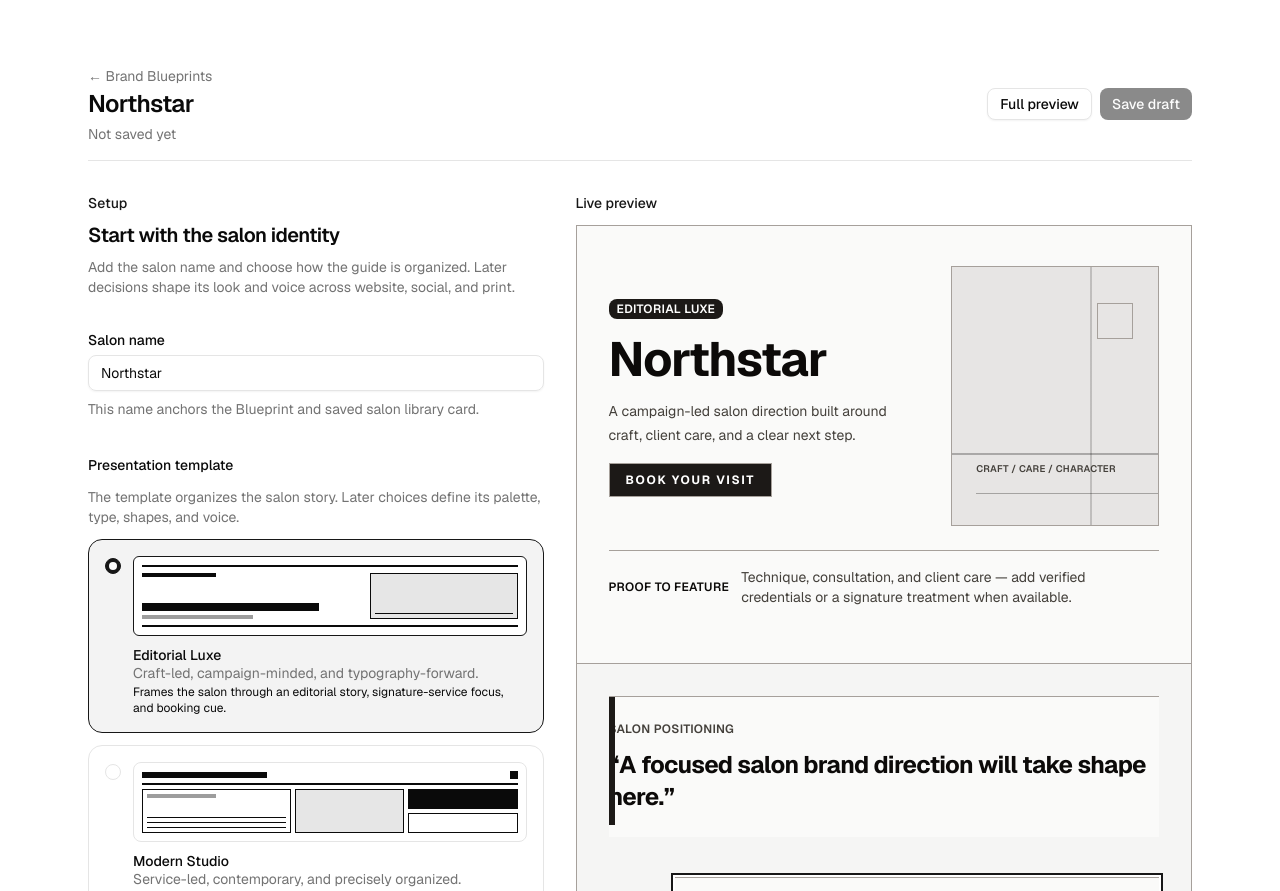
BlueprintWorkspace › preserves local values and reports a returned save failure
Replace the text in the field labelled "Salon name" with "Northstar Collective" at point(316, 373), box x1=88 y1=355 x2=544 y2=391
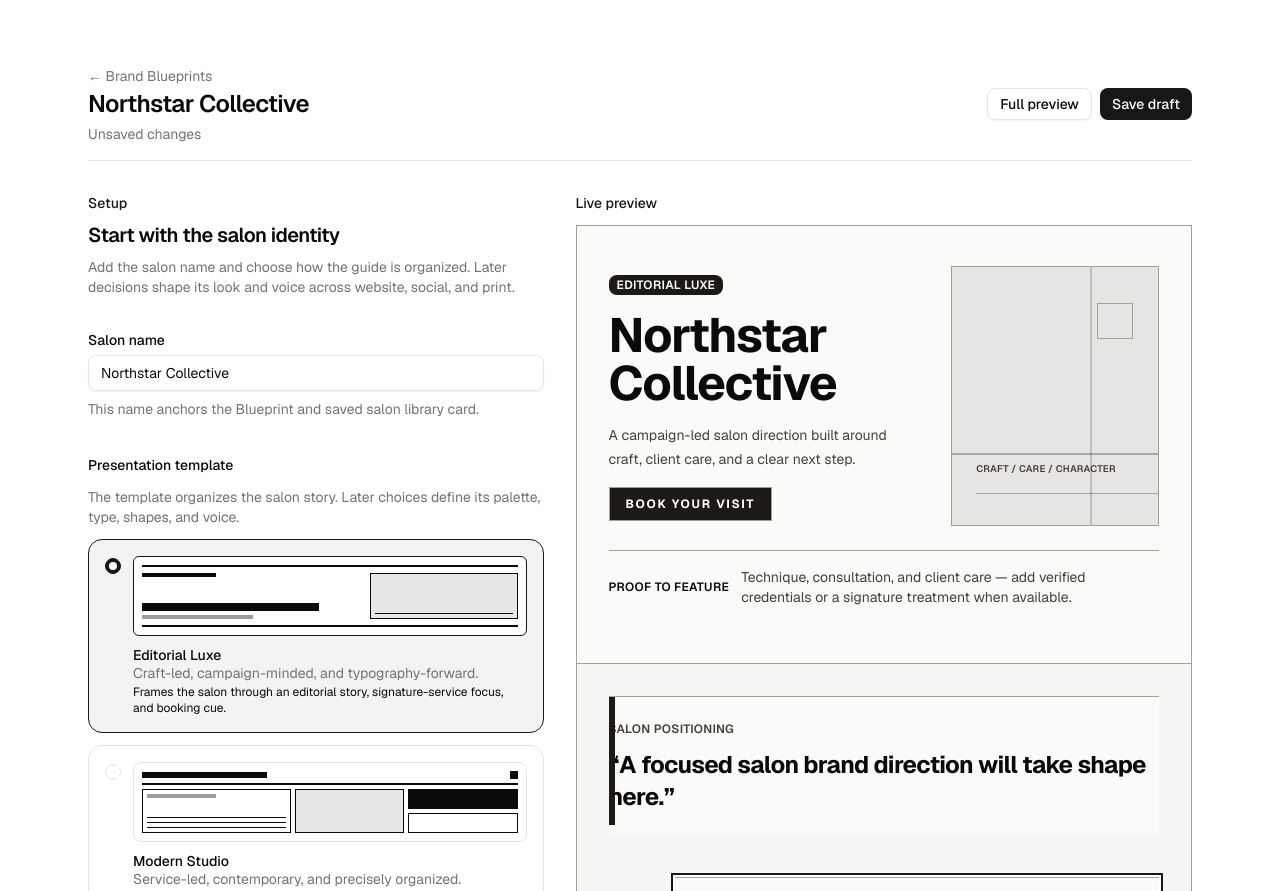
Click the button "Save draft".
click(1146, 104)  # box x1=1100 y1=88 x2=1192 y2=120
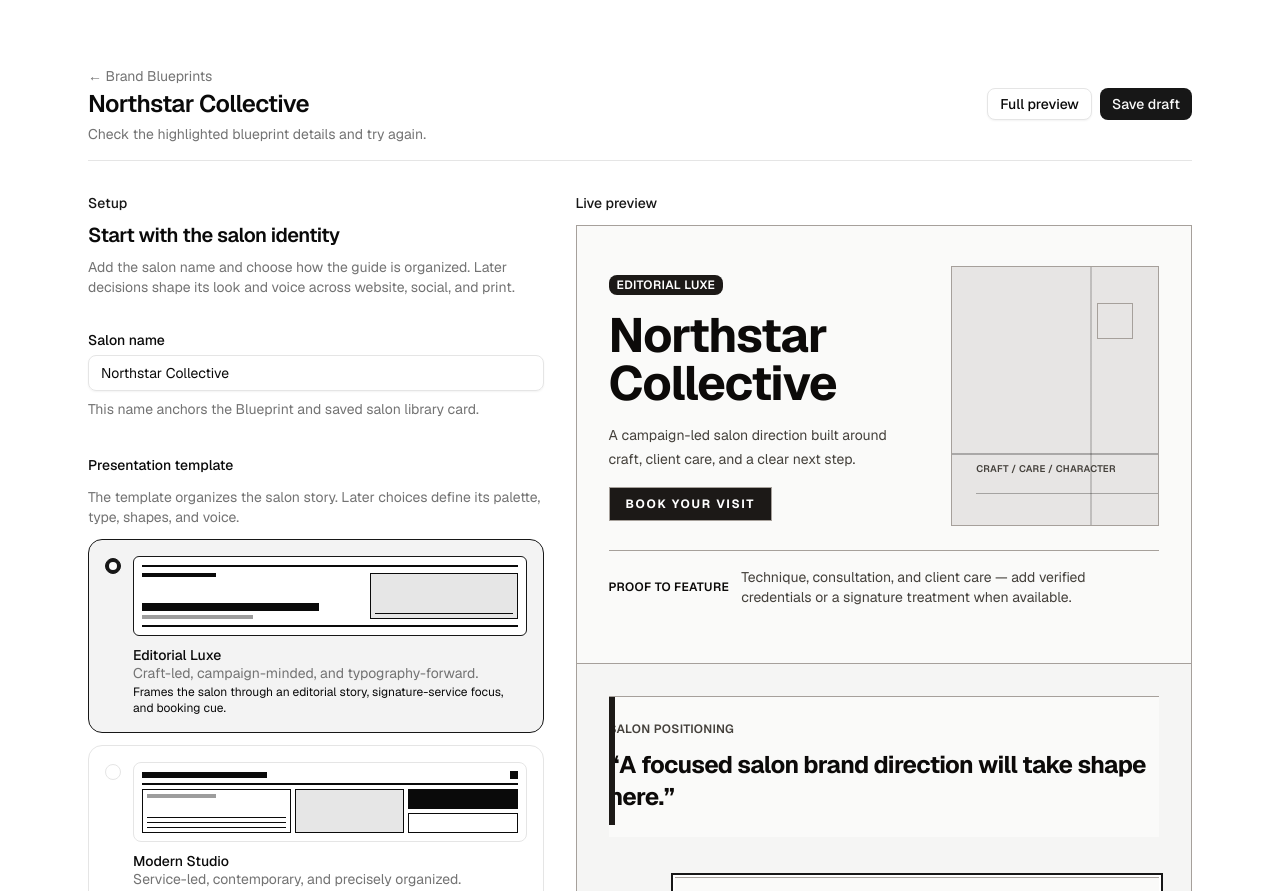
expect the text "Check the highlighted blueprint details and try again." is shown: met, box x1=88 y1=125 x2=426 y2=143
